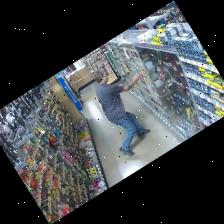person: (93, 69, 150, 156)
